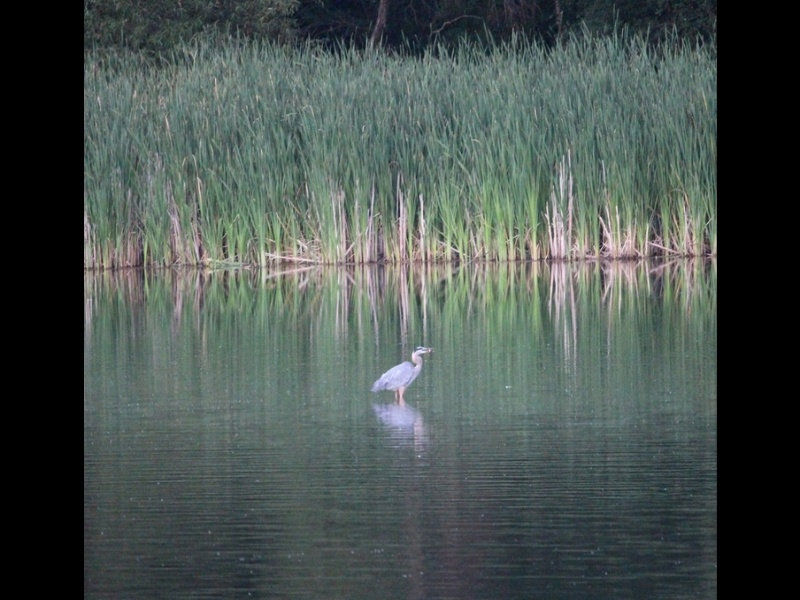heron: (370, 341, 432, 407)
